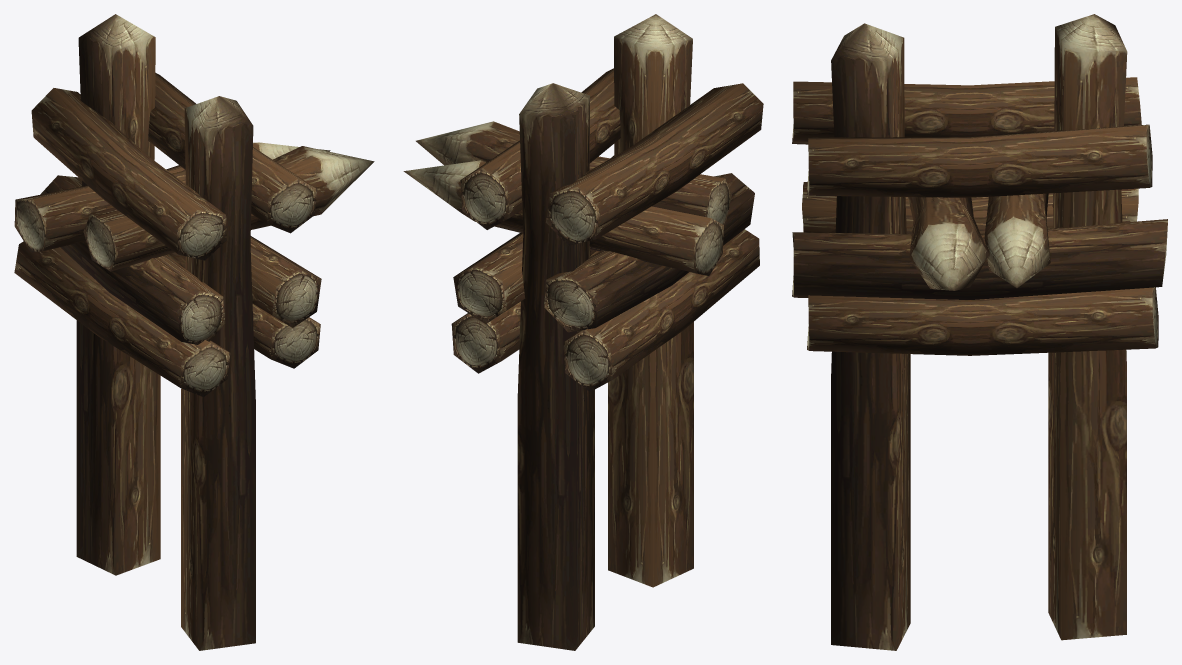
The model's file is nd_human_barrier_end.obj.
3 views of the same model, side by side, from view 1: azimuth 30°, elevation 25°; view 2: azimuth 150°, elevation 25°; view 3: azimuth 270°, elevation 25° (orthographic). The views are drawn at different scales.
Visible parts, largest first — view 1: nd_human_barrier_end; view 2: nd_human_barrier_end; view 3: nd_human_barrier_end.
Boxes of the visible parts, x1,y1,x2,y2 form: nd_human_barrier_end: (14,14,374,650); nd_human_barrier_end: (403,14,763,650); nd_human_barrier_end: (792,14,1167,650).
Bounding box in the file's own units: 6.48 × 10.75 × 5.93.
